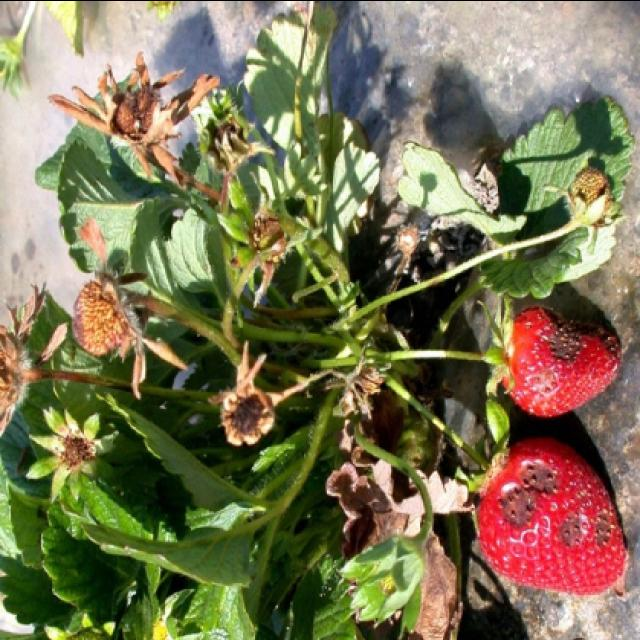Anthracnose Fruit Rot: (501, 489, 532, 527), (547, 322, 577, 358), (522, 460, 556, 487), (590, 515, 614, 542), (560, 519, 580, 545)
